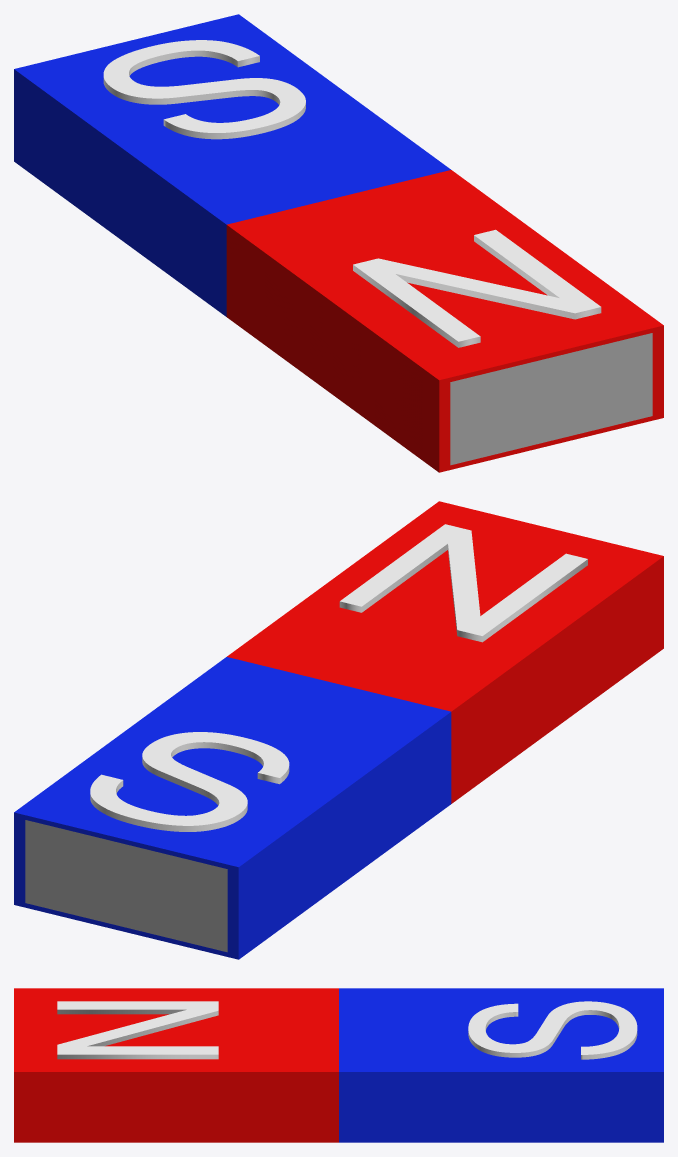
The model's file is magnet.glb.
The picture shows the model from 3 angles, top to bottom: view 1: azimuth 30°, elevation 25°; view 2: azimuth 150°, elevation 25°; view 3: azimuth 270°, elevation 25°; orthographic projection. The views are drawn at different scales.
Parts seen in each view (by area): view 1: Magnet, S, N; view 2: Magnet, N, S; view 3: Magnet, S, N.
Boxes of the visible parts, x1,y1,x2,y2 form: Magnet: (14, 14, 663, 472); S: (353, 229, 601, 347); N: (103, 40, 305, 139); Magnet: (14, 501, 663, 959); N: (90, 732, 289, 831); S: (339, 524, 587, 642); Magnet: (14, 988, 663, 1142); S: (57, 1001, 218, 1059); N: (468, 1001, 637, 1059).
Bounding box in the file's own units: 1.53 × 0.64 × 5.
